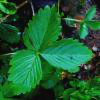Strawberry leaf: (22, 2, 62, 50), (41, 38, 95, 71), (7, 49, 42, 95)
